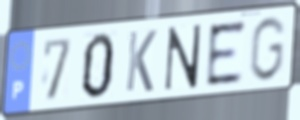0: (80, 31, 117, 101)
7: (41, 36, 74, 104)
E: (205, 17, 247, 89)
G: (247, 15, 288, 84)
K: (124, 28, 159, 94)
N: (162, 22, 204, 94)
